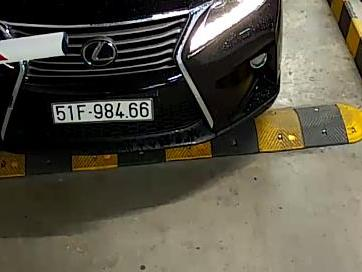car: (52, 100, 154, 122)
